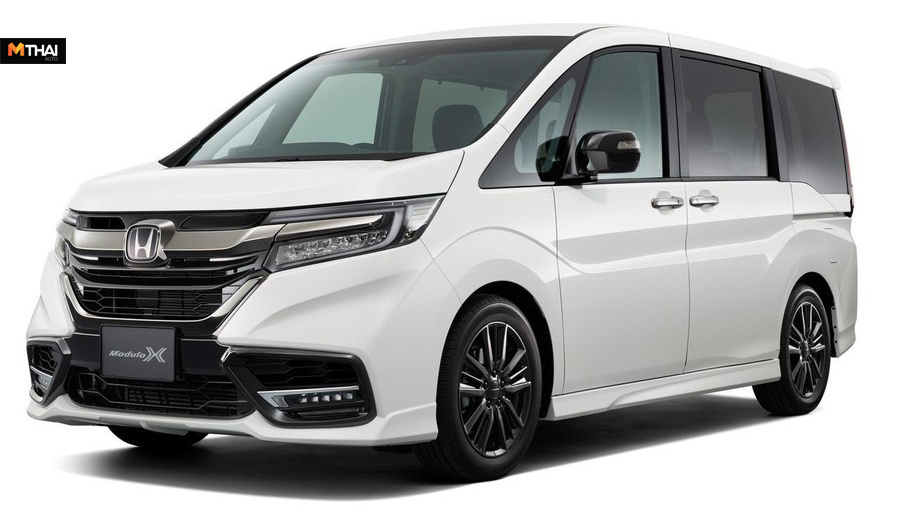van: (23, 17, 859, 480)
